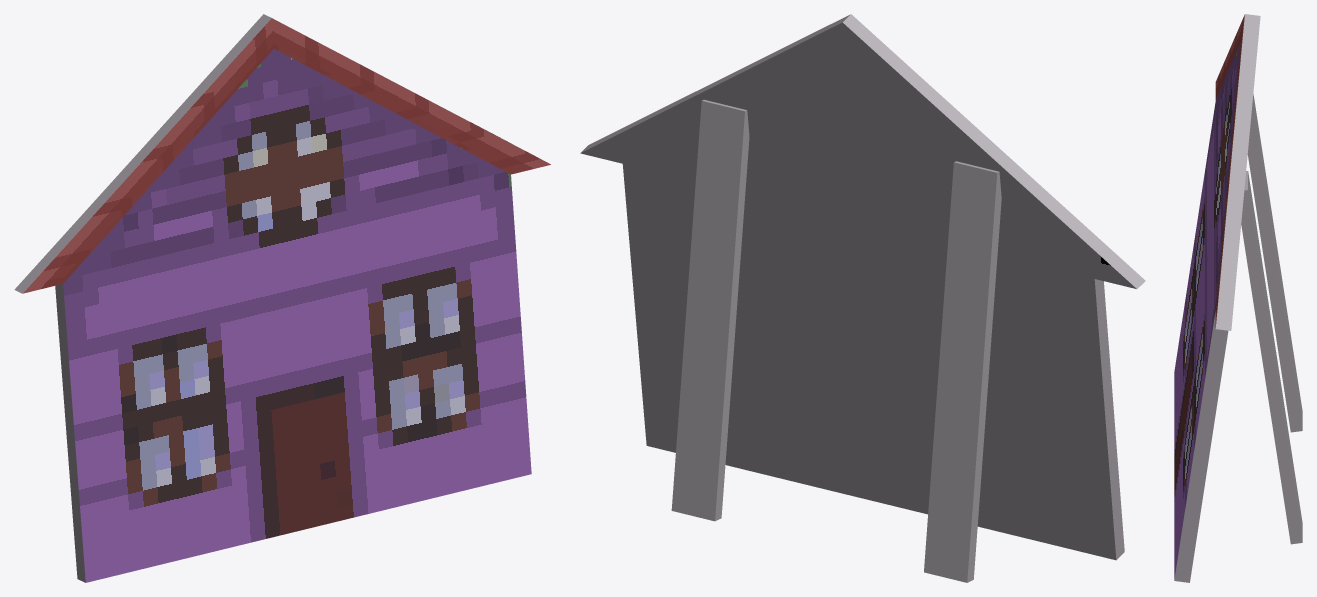
Rendered from FakeHome005.fbx.
3 views of the same model, side by side, from view 1: azimuth 30°, elevation 25°; view 2: azimuth 150°, elevation 25°; view 3: azimuth 270°, elevation 25° (orthographic). The views are drawn at different scales.
Visible parts, largest first — view 1: Cube.011; view 2: Cube.011; view 3: Cube.011.
Boxes of the visible parts, x1,y1,x2,y2 form: Cube.011: (14, 14, 550, 582); Cube.011: (580, 14, 1145, 582); Cube.011: (1174, 14, 1302, 582).
Bounding box in the file's own units: 616 × 540 × 135.
1 material, 1 textured.
